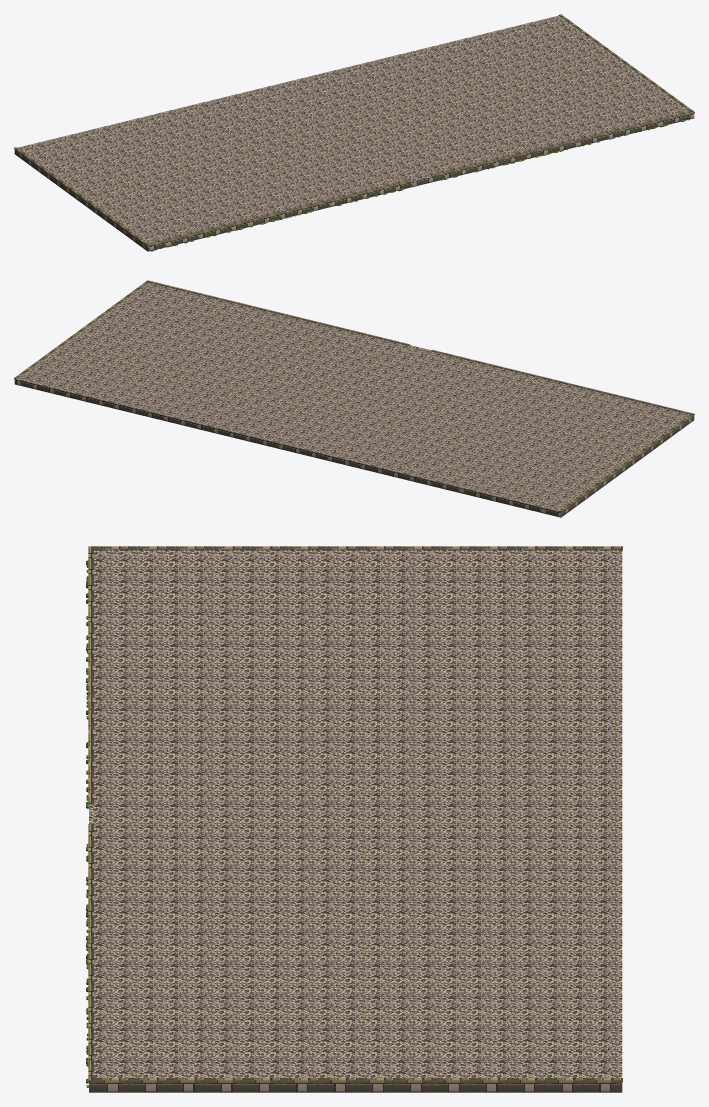
The model's file is scene_yard.glb.
The picture shows the model from 3 angles, top to bottom: view 1: azimuth 30°, elevation 25°; view 2: azimuth 150°, elevation 25°; view 3: azimuth 270°, elevation 25°; orthographic projection. The views are drawn at different scales.
Visible parts, largest first — view 1: scene_yard; view 2: scene_yard; view 3: scene_yard.
Boxes of the visible parts, x1=… form: scene_yard: x1=14, y1=14, x2=694, y2=251; scene_yard: x1=14, y1=280, x2=694, y2=517; scene_yard: x1=86, y1=546, x2=622, y2=1092.
Bounding box in the file's own units: 80.1 × 0.9717 × 34.04.
Materials: 3 (2 with a texture image).
